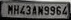character: (7, 4, 13, 15), (13, 4, 19, 15), (25, 5, 31, 15), (31, 5, 37, 15), (37, 5, 43, 15), (43, 5, 49, 15), (49, 5, 55, 15), (55, 5, 61, 15), (61, 5, 67, 15), (19, 5, 25, 14)
